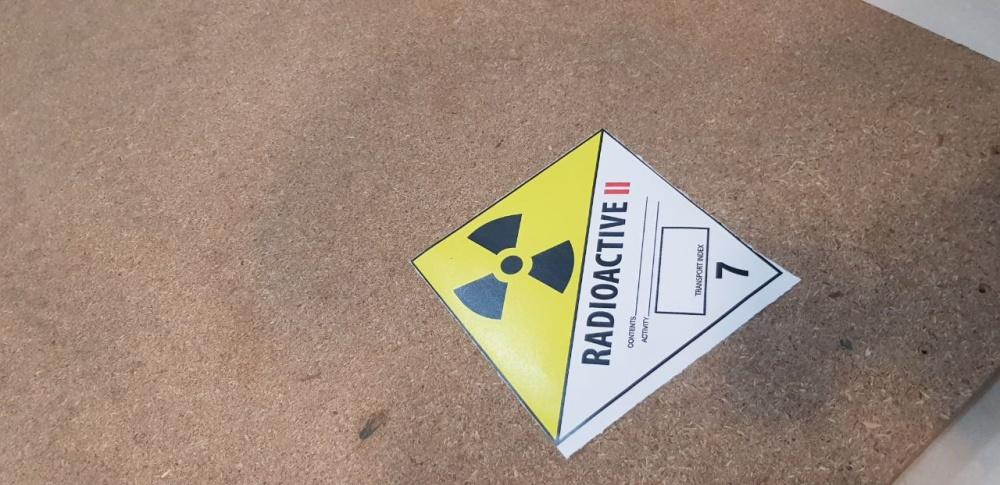radioactive: (414, 129, 801, 457)
